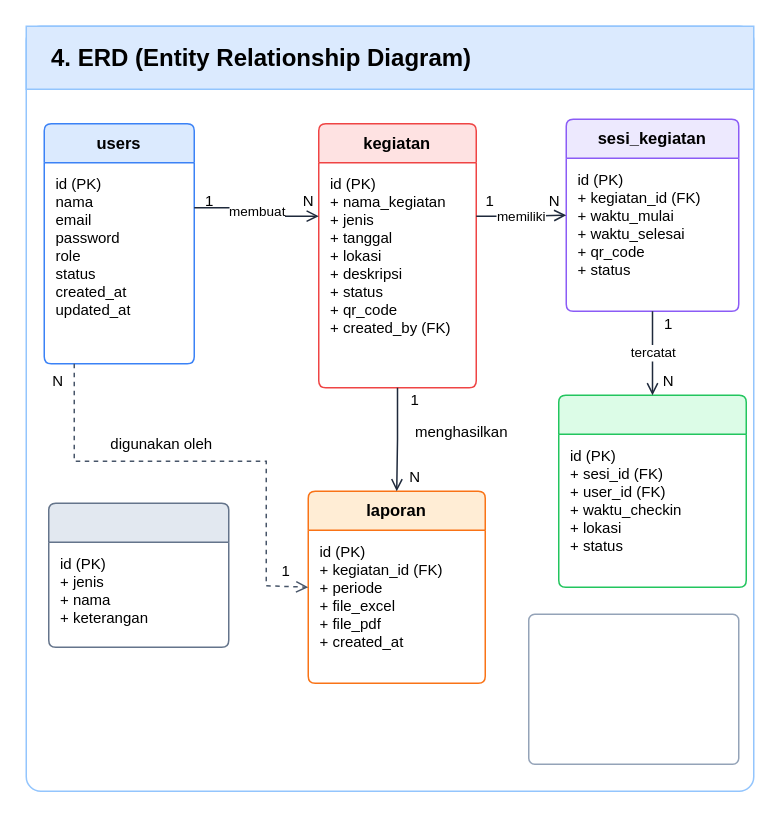
This 780x818 diagram has some shape labels left out. The box of each missing label's shape, as (x1, y1, x2, y2) in pixels:
absensi: (557, 394, 746, 587)
Keterangan: PK : Primary Key FK : Foreign Key 1 : Satu N : Banyak: (527, 613, 739, 764)
master_data: (47, 502, 229, 647)
